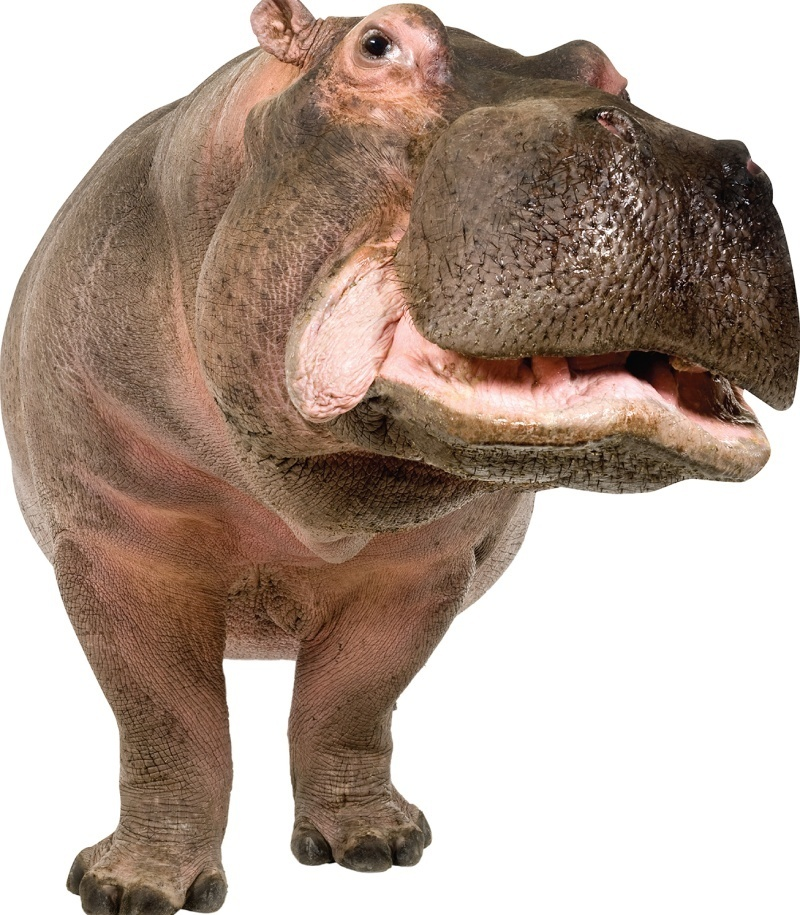hipopotamo: (4, 4, 799, 913)
